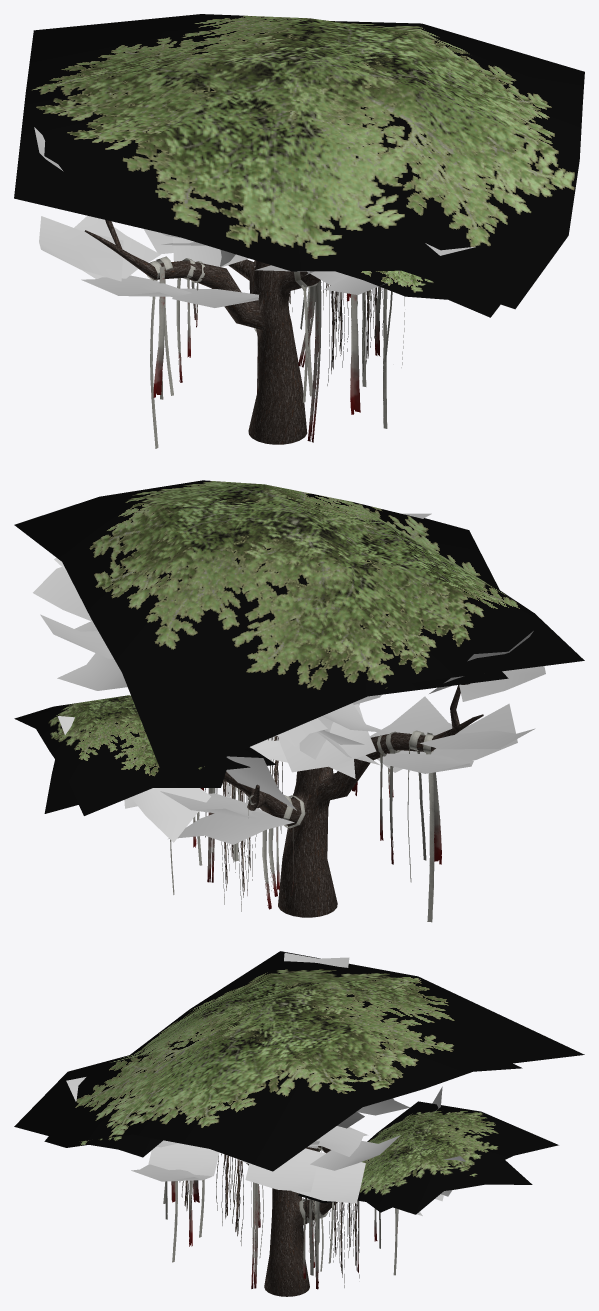
Rendered from MOD_Tree_01_Cloth.fbx.
3 renders of one model, top to bottom at view 1: azimuth 30°, elevation 25°; view 2: azimuth 150°, elevation 25°; view 3: azimuth 270°, elevation 25°, orthographic. The views are drawn at different scales.
Parts seen in each view (by area): view 1: Tree_Canopy2, Tree_MOD, Tree_Branch_MOD22, Tree_Canopy6, Tree_Branch_MOD21, Tree_Branch_MOD25, Tree_Branch_MOD38, Tree_Branch_MOD13, MOD_Cloth_13, MOD_Cloth_22, MOD_Foliage_Roots14, MOD_Cloth_24 (+2 smaller); view 2: Tree_Canopy2, Tree_Canopy4, Tree_MOD, Tree_Branch_MOD19, Tree_Branch_MOD12, Tree_Branch_MOD4, Tree_Canopy5, Tree_Branch_MOD38, Tree_Branch_MOD21, Tree_Branch_MOD34, Tree_Branch_MOD36, Tree_Branch_MOD22 (+11 smaller); view 3: Tree_Canopy2, Tree_Canopy4, Tree_MOD, Tree_Branch_MOD32, Tree_Branch_MOD34, Tree_Branch_MOD31, Tree_Canopy5, Tree_Canopy6, Tree_Branch_MOD37, MOD_Foliage_Roots14, Tree_Branch_MOD36, Tree_Branch_MOD43 (+5 smaller).
Boxes of the visible parts, x1,y1,x2,y2 form: Tree_Canopy2: (14,14,584,309); Tree_MOD: (84,220,320,444); Tree_Branch_MOD22: (39,216,123,281); Tree_Canopy6: (336,270,500,317); Tree_Branch_MOD21: (81,275,191,296); Tree_Branch_MOD25: (74,215,160,278); Tree_Branch_MOD38: (172,288,258,307); Tree_Branch_MOD13: (172,237,248,266); MOD_Cloth_13: (307,280,321,442); MOD_Cloth_22: (350,294,360,414); MOD_Foliage_Roots14: (327,285,348,385); MOD_Cloth_24: (153,266,165,397); Tree_Canopy2: (14,480,584,781); Tree_Canopy4: (14,695,276,815); Tree_MOD: (223,673,484,917); Tree_Branch_MOD19: (131,788,210,842); Tree_Branch_MOD12: (278,704,376,772); Tree_Branch_MOD4: (168,811,294,844); Tree_Canopy5: (44,759,226,813); Tree_Branch_MOD38: (370,696,452,772); Tree_Branch_MOD21: (431,703,517,762); Tree_Branch_MOD34: (57,653,127,690); Tree_Branch_MOD36: (33,567,92,621); Tree_Branch_MOD22: (420,728,535,749); Tree_Canopy2: (14,951,584,1171); Tree_Canopy4: (298,1101,558,1214); Tree_MOD: (246,1146,337,1296); Tree_Branch_MOD32: (245,1148,319,1192); Tree_Branch_MOD34: (292,1152,365,1203); Tree_Branch_MOD31: (148,1143,219,1176); Tree_Canopy5: (366,1160,532,1212); Tree_Canopy6: (44,1134,162,1157); Tree_Branch_MOD37: (310,1135,400,1170); MOD_Foliage_Roots14: (216,1153,243,1245); Tree_Branch_MOD36: (308,1126,364,1156); Tree_Branch_MOD43: (131,1164,212,1181).
Size of the model in its own units: 3758 by 2371 by 4230.
